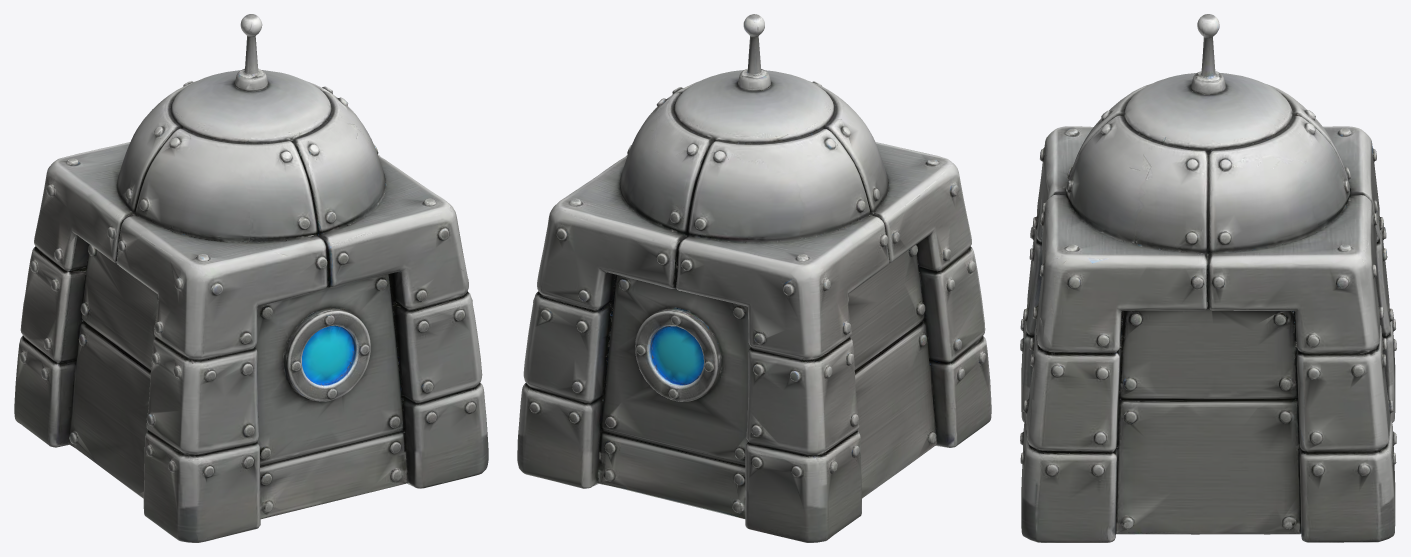
File: house-bots.glb
3 renders of one model, left to right at view 1: azimuth 30°, elevation 25°; view 2: azimuth 150°, elevation 25°; view 3: azimuth 270°, elevation 25°, orthographic. The views are drawn at different scales.
Visible parts, largest first — view 1: Mesh_0; view 2: Mesh_0; view 3: Mesh_0.
Boxes of the visible parts, x1,y1,x2,y2 form: Mesh_0: (14,14,488,542); Mesh_0: (517,14,991,542); Mesh_0: (1020,14,1396,542).
Size of the model in its own units: 1.45 by 1.91 by 1.45.
1 material, 1 textured.
